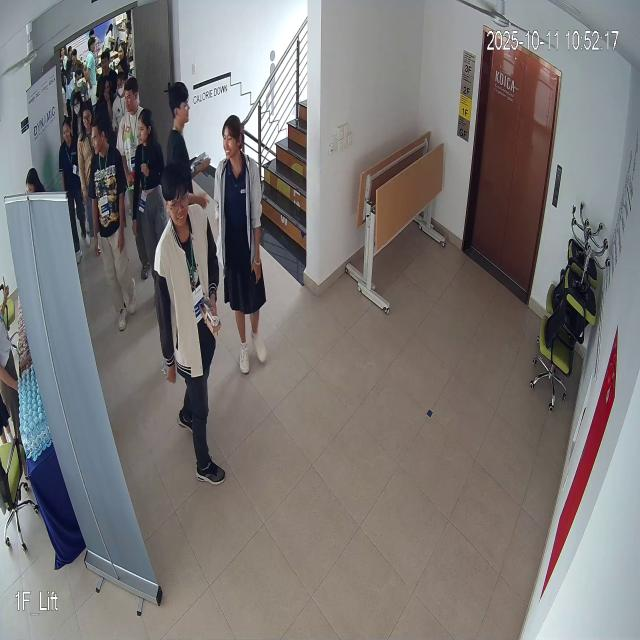face: (162, 156, 194, 237), (219, 108, 247, 172)
